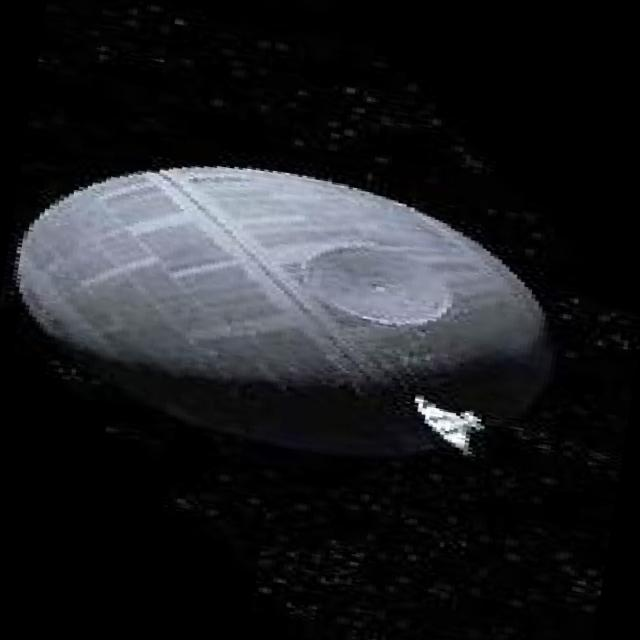Death Star: (0, 137, 572, 493)
